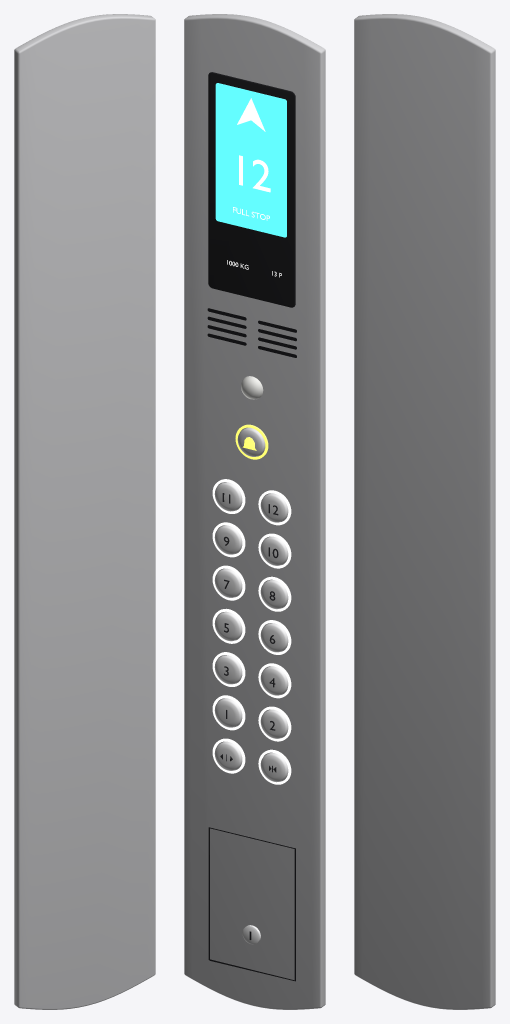
The model's file is cop_HCP12.glb.
3 views of the same model, side by side, from view 1: azimuth 30°, elevation 25°; view 2: azimuth 150°, elevation 25°; view 3: azimuth 330°, elevation 25° (orthographic).
Parts seen in each view (by area): view 1: COP_Plate; view 2: COP_Plate, COP_Display, COP_Display_Frame, COP_Speaker, COP_Cabinet_Joint, COP_Btn_1_Cap, COP_Btn_2_Cap, COP_Btn_3_Cap, COP_Btn_4_Cap, COP_Btn_5_Cap, COP_Btn_Open_Cap, COP_Btn_7_Cap (+11 smaller); view 3: COP_Plate.
Boxes of the visible parts, box(x1,y1,x2,y2) form: COP_Plate: box(14, 14, 155, 1009); COP_Plate: box(184, 14, 325, 1009); COP_Display: box(215, 83, 286, 237); COP_Display_Frame: box(208, 72, 295, 307); COP_Speaker: box(207, 308, 296, 357); COP_Cabinet_Joint: box(208, 827, 295, 981); COP_Btn_1_Cap: box(214, 698, 242, 727); COP_Btn_2_Cap: box(260, 709, 288, 738); COP_Btn_3_Cap: box(214, 655, 242, 684); COP_Btn_4_Cap: box(260, 666, 288, 695); COP_Btn_5_Cap: box(214, 612, 242, 641); COP_Btn_Open_Cap: box(214, 741, 242, 770); COP_Btn_7_Cap: box(214, 568, 242, 597); COP_Plate: box(354, 14, 495, 1009).
Bounding box in the file's own units: 0.12 × 0.82 × 0.014.
